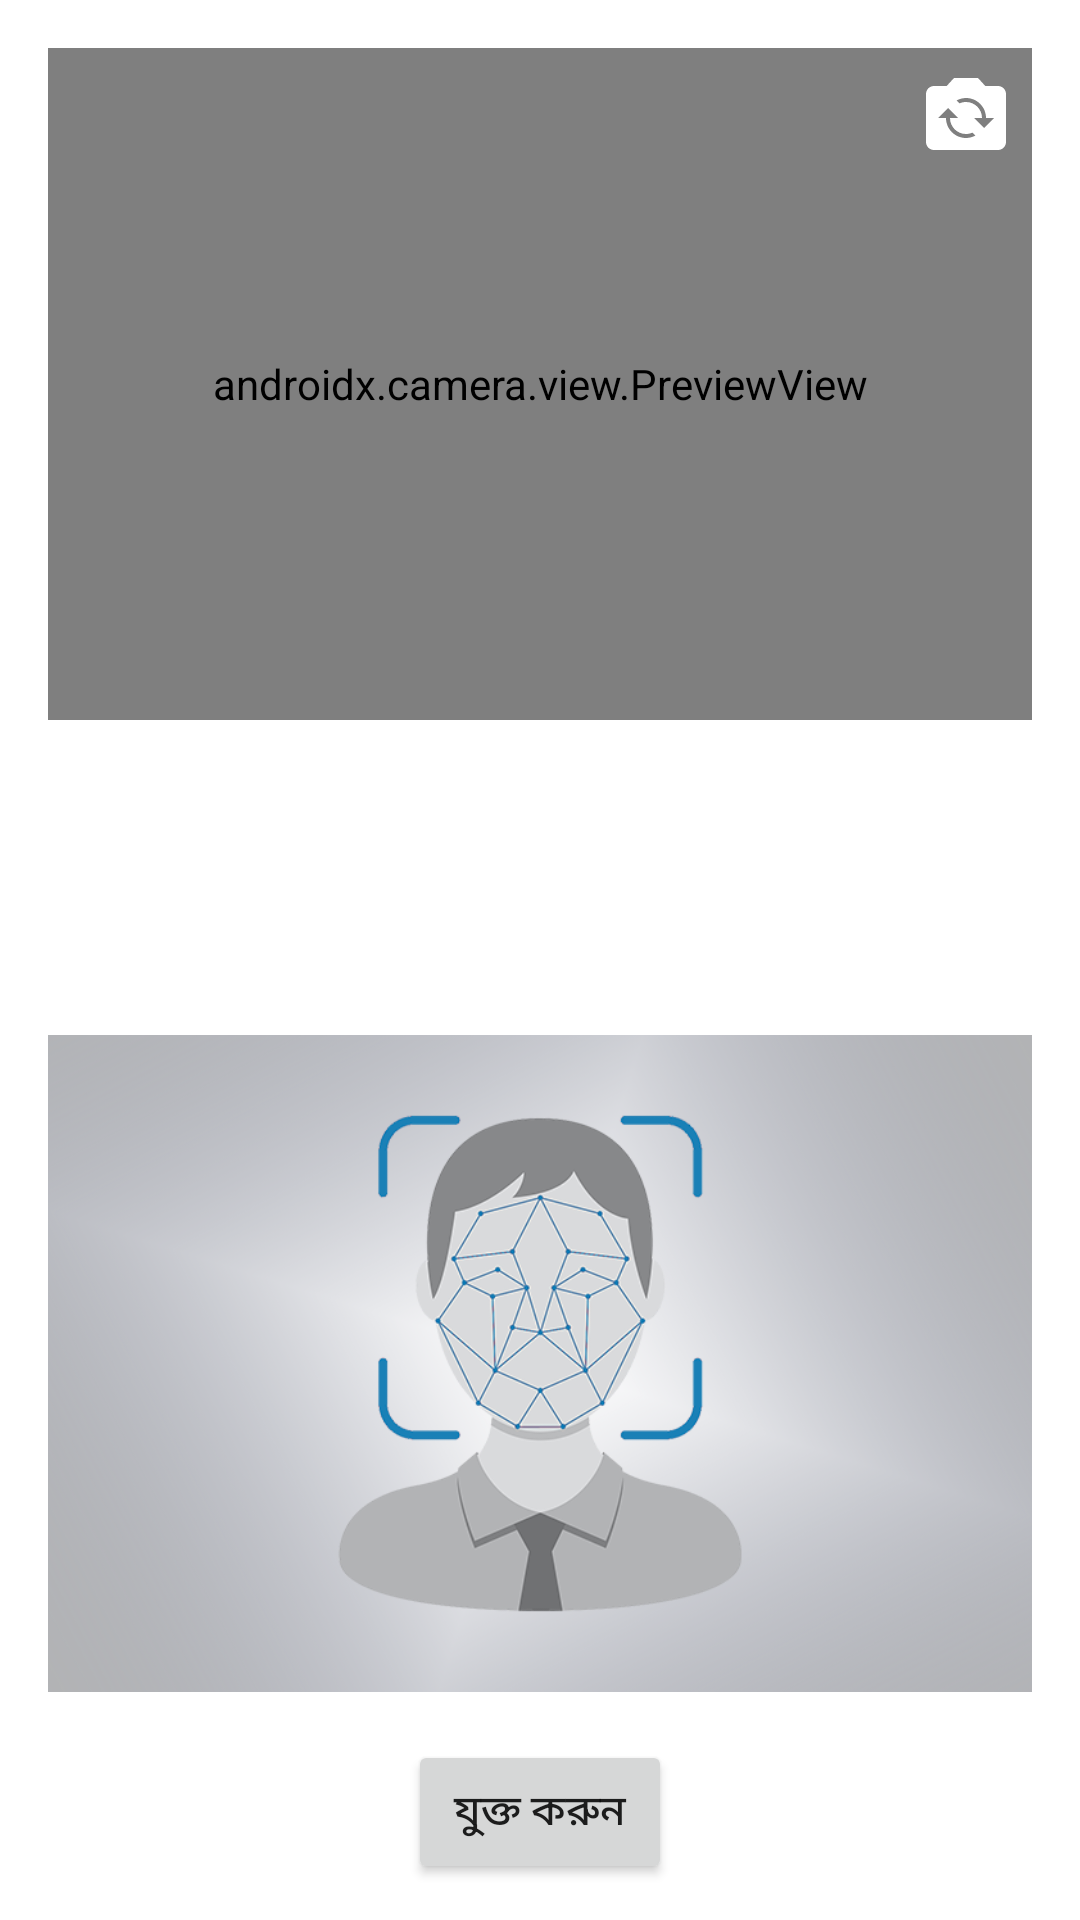

Where to tap for icons on this 1080x1920 app screen, as [x,y]:
flip camera: [966,114]
